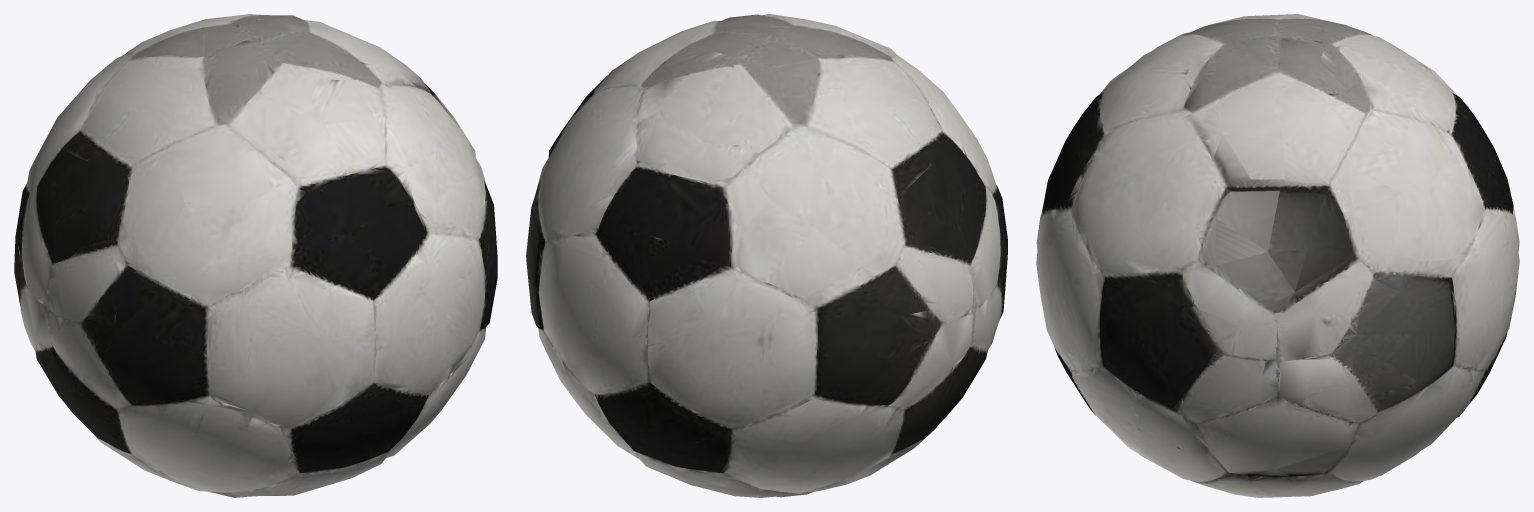
Rendered from ball.glb.
3 renders of one model, left to right at view 1: azimuth 30°, elevation 25°; view 2: azimuth 150°, elevation 25°; view 3: azimuth 270°, elevation 25°, orthographic.
Visible parts, largest first — view 1: Mesh_0; view 2: Mesh_0; view 3: Mesh_0.
Part boxes in pixels (x1,y1,x2,y2): Mesh_0: (14, 14, 497, 497); Mesh_0: (526, 14, 1007, 497); Mesh_0: (1036, 14, 1519, 497).
Bounding box in the file's own units: 1.91 × 1.9 × 1.91.
1 material, 1 textured.
